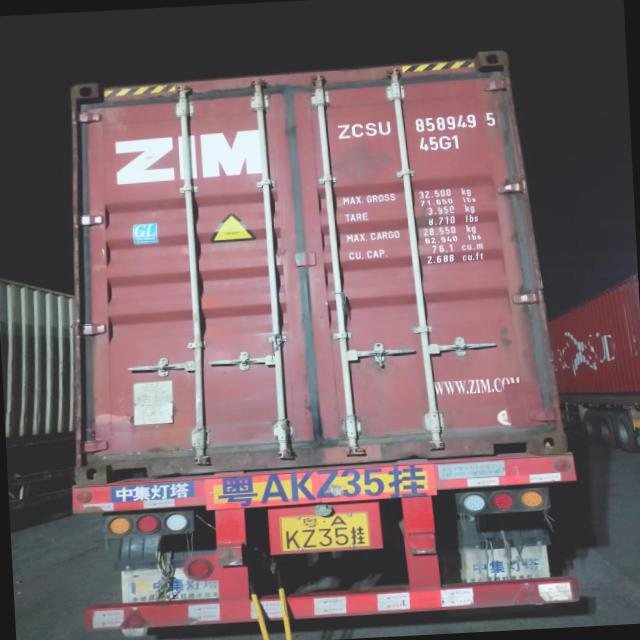seal: (368, 340, 397, 375)
